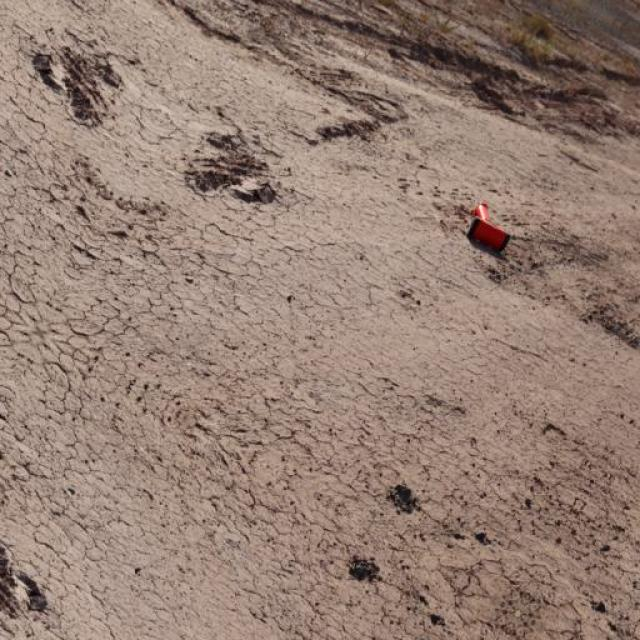mallet: (465, 200, 510, 252)
